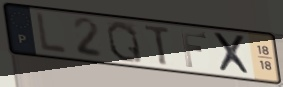2: (71, 16, 106, 61)
F: (179, 29, 209, 70)
L: (35, 10, 70, 57)
Q: (105, 19, 146, 65)
T: (143, 23, 173, 67)
X: (211, 31, 255, 78)
